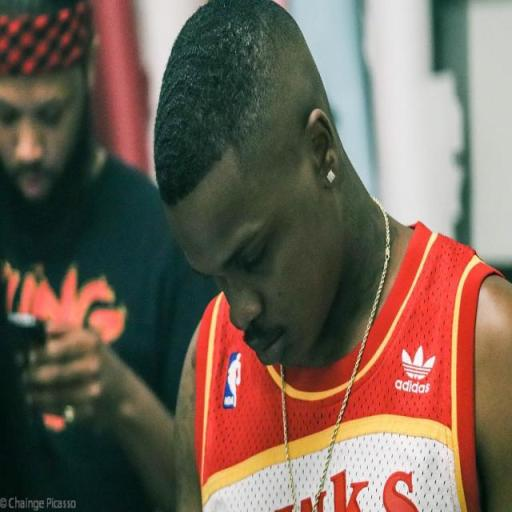Adidas: (393, 343, 436, 396)
